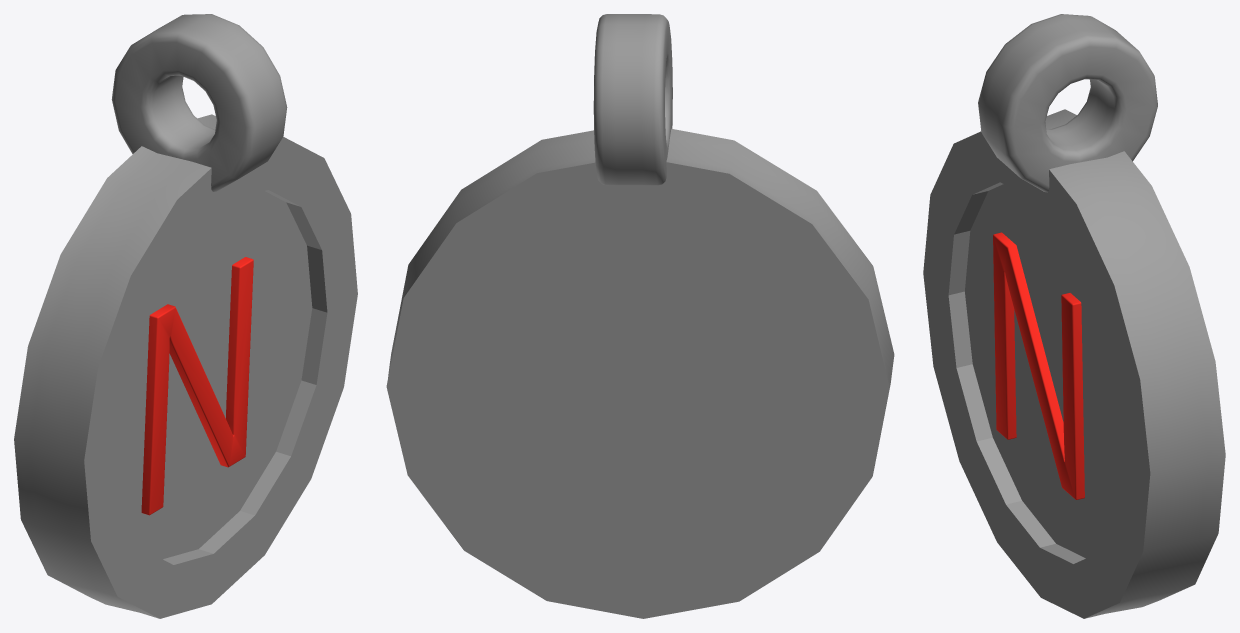
3 renders of one model, left to right at view 1: azimuth 30°, elevation 25°; view 2: azimuth 150°, elevation 25°; view 3: azimuth 270°, elevation 25°, orthographic.
Visible parts, largest first — view 1: Cylinder.002, Tube.002, N_2.002; view 2: Cylinder.002, Tube.002; view 3: Cylinder.002, Tube.002, N_2.002.
Boxes of the visible parts, box(x1,y1,x2,y2) form: Cylinder.002: box(14, 114, 357, 618); Tube.002: box(111, 14, 287, 191); N_2.002: box(141, 257, 253, 515); Cylinder.002: box(386, 128, 894, 618); Tube.002: box(593, 14, 672, 185); Cylinder.002: box(923, 109, 1225, 618); Tube.002: box(978, 14, 1157, 192); N_2.002: box(993, 232, 1084, 499).
Size of the model in its own units: 16.88 by 10.48 by 21.94.
